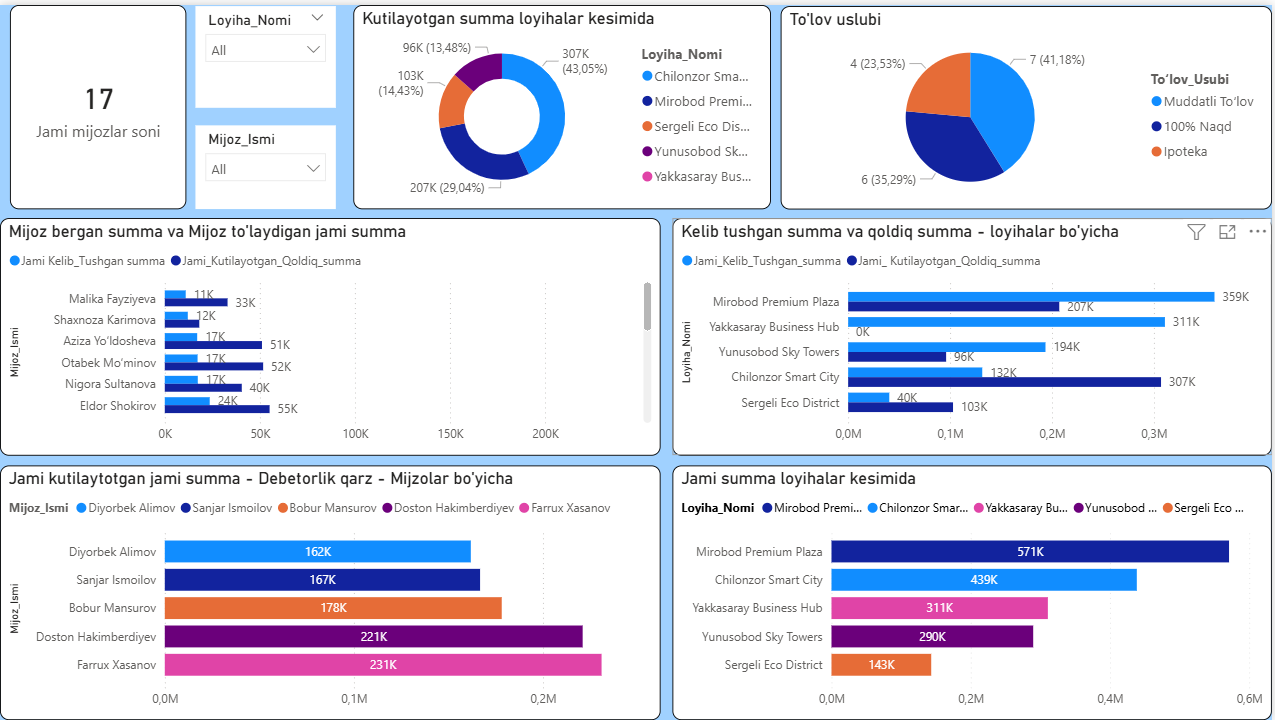

The page's visual inventory and layout, read from the dashboard file:
{"tool":"powerbi","page":{"name":"Mijozlar","canvas":[1280,720],"ordinal":1},"visuals":[{"type":"card","fields":{"Values":["CountNonNull(Mijozlar_CRM.Mijoz_ID)"]},"box":[10,0,177.8,205.6],"z":0},{"type":"slicer","fields":{"Values":["Mijozlar_CRM.Mijoz_Ismi"]},"box":[197.1,121.3,141.5,83.9],"z":1000},{"type":"pieChart","title":"To''lov uslubi","fields":{"Category":["Shartnomalar_Savdo.Toʻlov_Usubi"],"Y":["CountNonNull(Shartnomalar_Savdo.Toʻlov_Usubi)"]},"box":[785.6,1.1,494.4,204.4],"z":2000},{"type":"clusteredBarChart","title":"Mijoz bergan summa va Mijoz to''laydigan jami summa","fields":{"Category":["Mijozlar_CRM.Mijoz_Ismi","Shartnomalar_Savdo.Loyiha_Nomi"],"Y":["Sum(Toʻlovlar_Tushumi.Kelib_Tushgan_USD)","Sum(Toʻlovlar_Tushumi.Kutilayotgan_Qoldiq_USD)"]},"box":[0,214.4,664.4,238.9],"z":3000},{"type":"barChart","title":"Jami kutilaytotgan jami summa - Debetorlik qarz - Mijzolar bo''yicha","fields":{"Y":["Sum(Shartnomalar_Savdo.Jami_Qiymati_USD)"],"Category":["Mijozlar_CRM.Mijoz_Ismi","Shartnomalar_Savdo.Loyiha_Nomi"],"Series":["Mijozlar_CRM.Mijoz_Ismi"]},"box":[0,463.3,664.4,256.7],"z":4000},{"type":"donutChart","title":"Kutilayotgan summa loyihalar kesimida","fields":{"Y":["Sum(Toʻlovlar_Tushumi.Kutilayotgan_Qoldiq_USD)"],"Category":["Shartnomalar_Savdo.Loyiha_Nomi"]},"box":[355.6,0,420,205.6],"z":5000},{"type":"slicer","fields":{"Values":["Shartnomalar_Savdo.Loyiha_Nomi"]},"box":[197.1,1,141.5,102.1],"z":6000},{"type":"clusteredBarChart","title":"Kelib tushgan summa va qoldiq summa - loyihalar bo''yicha","fields":{"Category":["Shartnomalar_Savdo.Loyiha_Nomi"],"Y":["Sum(Toʻlovlar_Tushumi.Kelib_Tushgan_USD)","Sum(Toʻlovlar_Tushumi.Kutilayotgan_Qoldiq_USD)"]},"box":[676.7,214.4,603.3,238.9],"z":7000},{"type":"barChart","title":"Jami summa loyihalar kesimida","fields":{"Category":["Shartnomalar_Savdo.Loyiha_Nomi"],"Y":["Sum(Shartnomalar_Savdo.Jami_Qiymati_USD)"],"Series":["Shartnomalar_Savdo.Loyiha_Nomi"]},"box":[676.7,463.3,603.3,256.7],"z":8000}]}

Visuals, with their boxes in screenshot pixels (x1, y1, x2, y2), scaled from the page's 1280x720 canvas onto the 1275x720 screenshot:
card - CountNonNull(Mijozlar_CRM.Mijoz_ID): bbox(10, 0, 187, 206)
slicer - Mijozlar_CRM.Mijoz_Ismi: bbox(196, 121, 337, 205)
"To''lov uslubi" pieChart: bbox(783, 1, 1274, 206)
"Mijoz bergan summa va Mijoz to''laydigan jami summa" clusteredBarChart: bbox(0, 214, 662, 453)
"Jami kutilaytotgan jami summa - Debetorlik qarz - Mijzolar bo''yicha" barChart: bbox(0, 463, 662, 719)
"Kutilayotgan summa loyihalar kesimida" donutChart: bbox(354, 0, 773, 206)
slicer - Shartnomalar_Savdo.Loyiha_Nomi: bbox(196, 1, 337, 103)
"Kelib tushgan summa va qoldiq summa - loyihalar bo''yicha" clusteredBarChart: bbox(674, 214, 1274, 453)
"Jami summa loyihalar kesimida" barChart: bbox(674, 463, 1274, 719)
